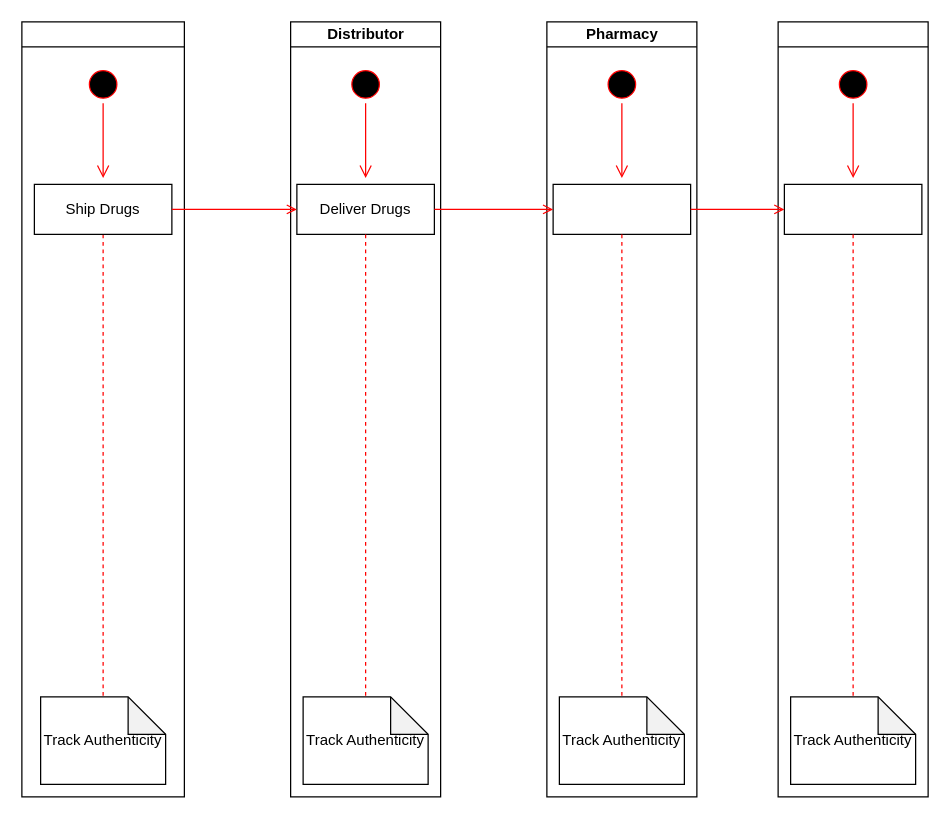
The diagram is 950 pixels wide and 819 high, and some of its shapes have lost their labels. The shapes that lost their labels are listed below. From the top down, each one's box as (x1, y1, x2, y2) in pixels, then its label:
(552, 183, 691, 234): Receive Drugs
(783, 183, 922, 234): Buy Drugs
(21, 21, 184, 797): Warehouse
(777, 21, 928, 797): Consumer
